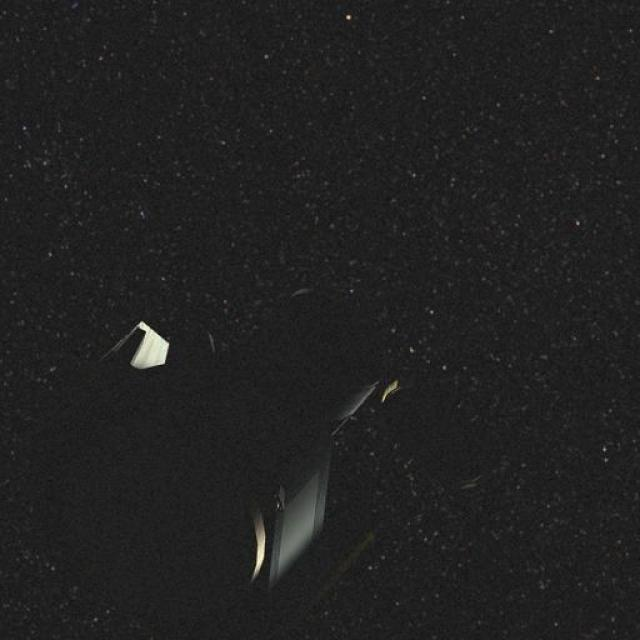debris: (83, 298, 448, 564)
